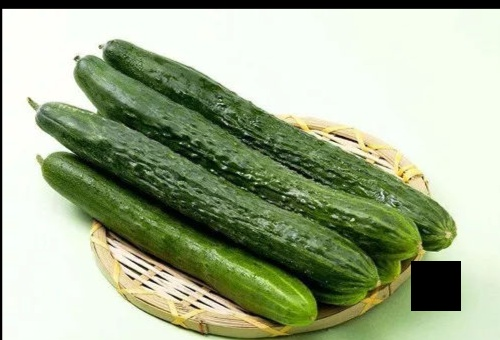cucumber: (103, 33, 451, 238), (74, 57, 429, 244), (33, 98, 372, 284), (35, 149, 313, 318)
